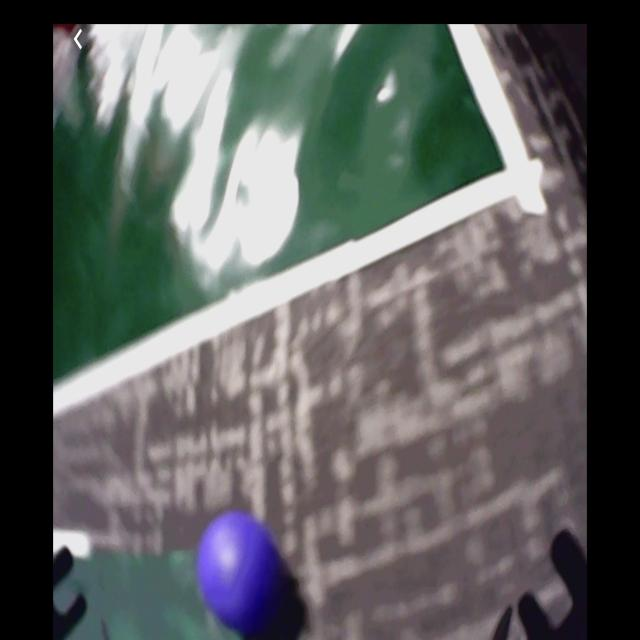ball: (200, 511, 280, 631)
